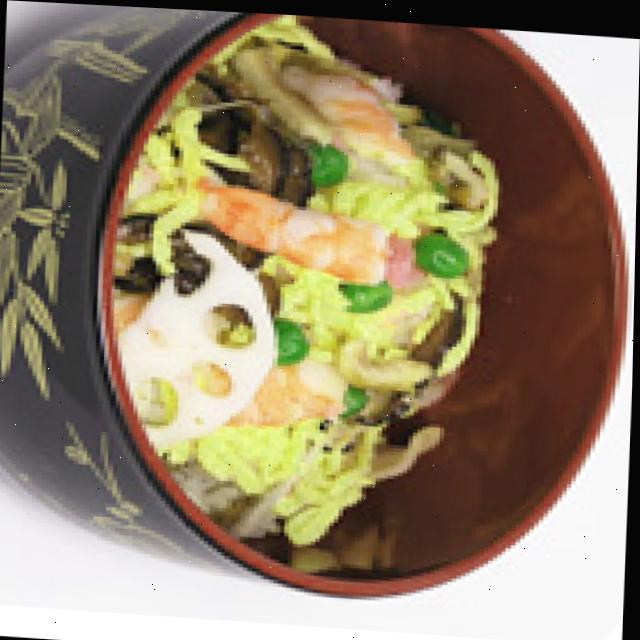寿司卷物: (0, 0, 640, 613)
